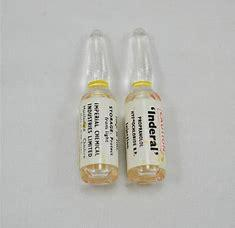Syringe: (119, 21, 173, 186), (74, 25, 120, 189)
